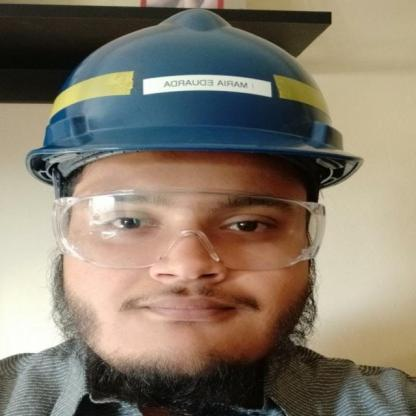capacete: (21, 8, 370, 182)
oculos: (49, 188, 331, 272)
